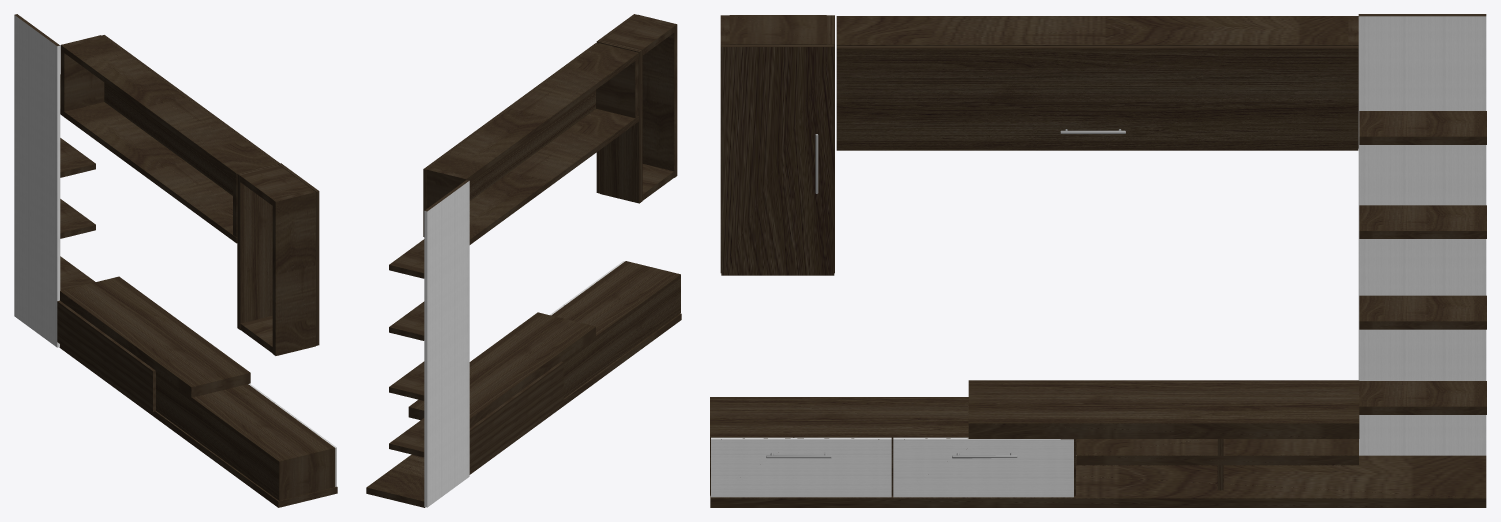
File: Furniture 2.FBX
The picture shows the model from 3 angles, left to right: view 1: azimuth 30°, elevation 25°; view 2: azimuth 150°, elevation 25°; view 3: azimuth 270°, elevation 25°; orthographic projection. The views are drawn at different scales.
Visible parts, largest first — view 1: Furniture 2; view 2: Furniture 2; view 3: Furniture 2.
Part boxes in pixels (x1,y1,x2,y2): Furniture 2: (14, 14, 337, 507); Furniture 2: (366, 14, 681, 507); Furniture 2: (710, 14, 1486, 507).
Bounding box in the file's own units: 71.75 × 488 × 313.
Materials: 3 (2 with a texture image).
